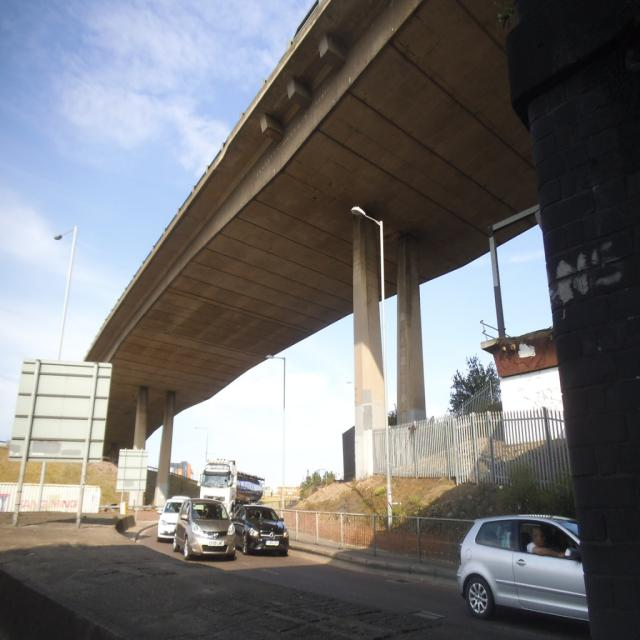car: (455, 517, 590, 619)
